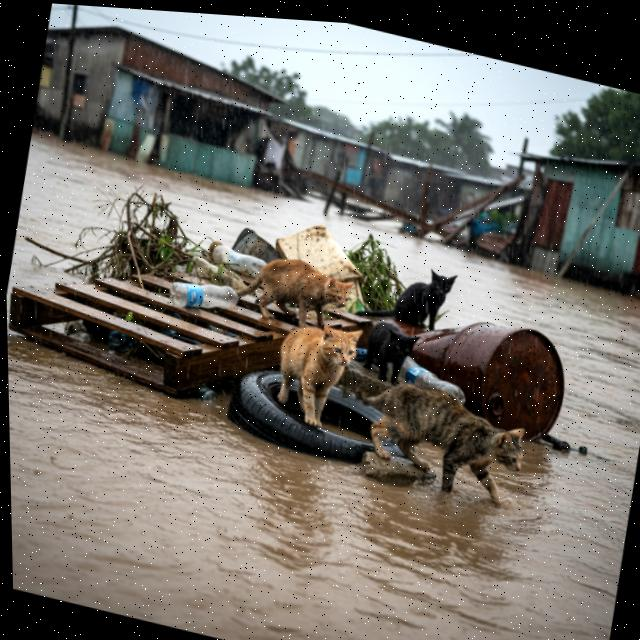cat: (346, 367, 540, 521), (262, 299, 363, 445), (227, 240, 358, 348), (348, 244, 463, 344), (355, 314, 420, 393)
